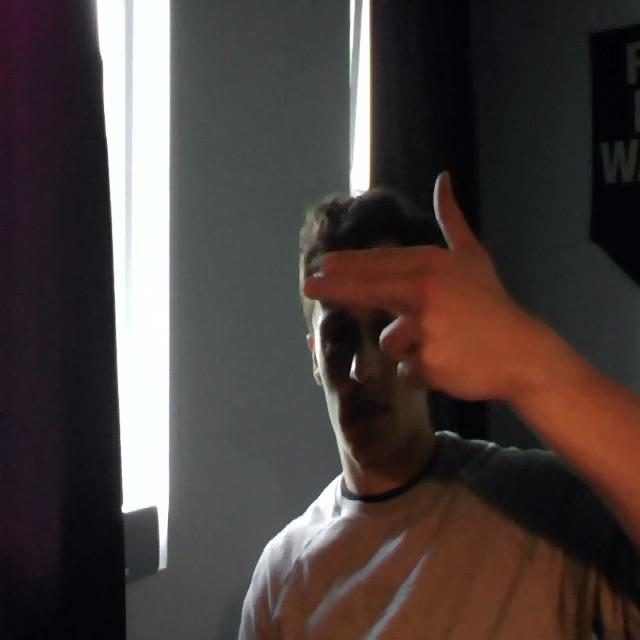left: (296, 167, 530, 416)
